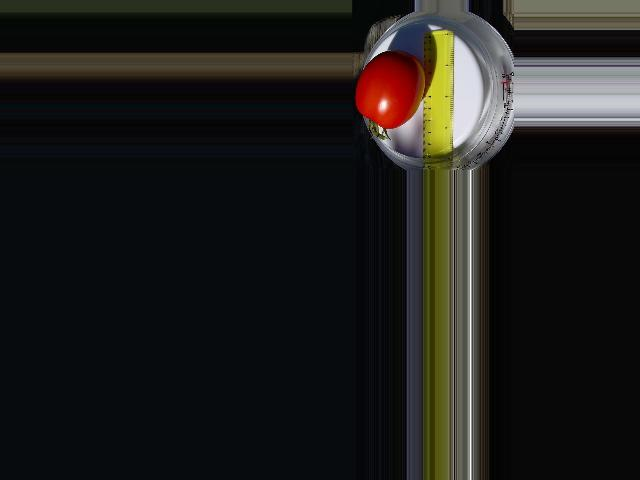tomato: (354, 51, 426, 129)
